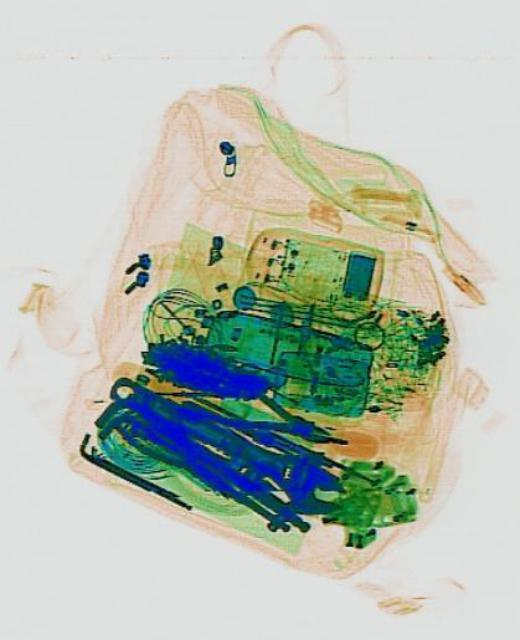Pliers: (178, 358, 336, 460)
Wrench: (100, 356, 350, 532)
